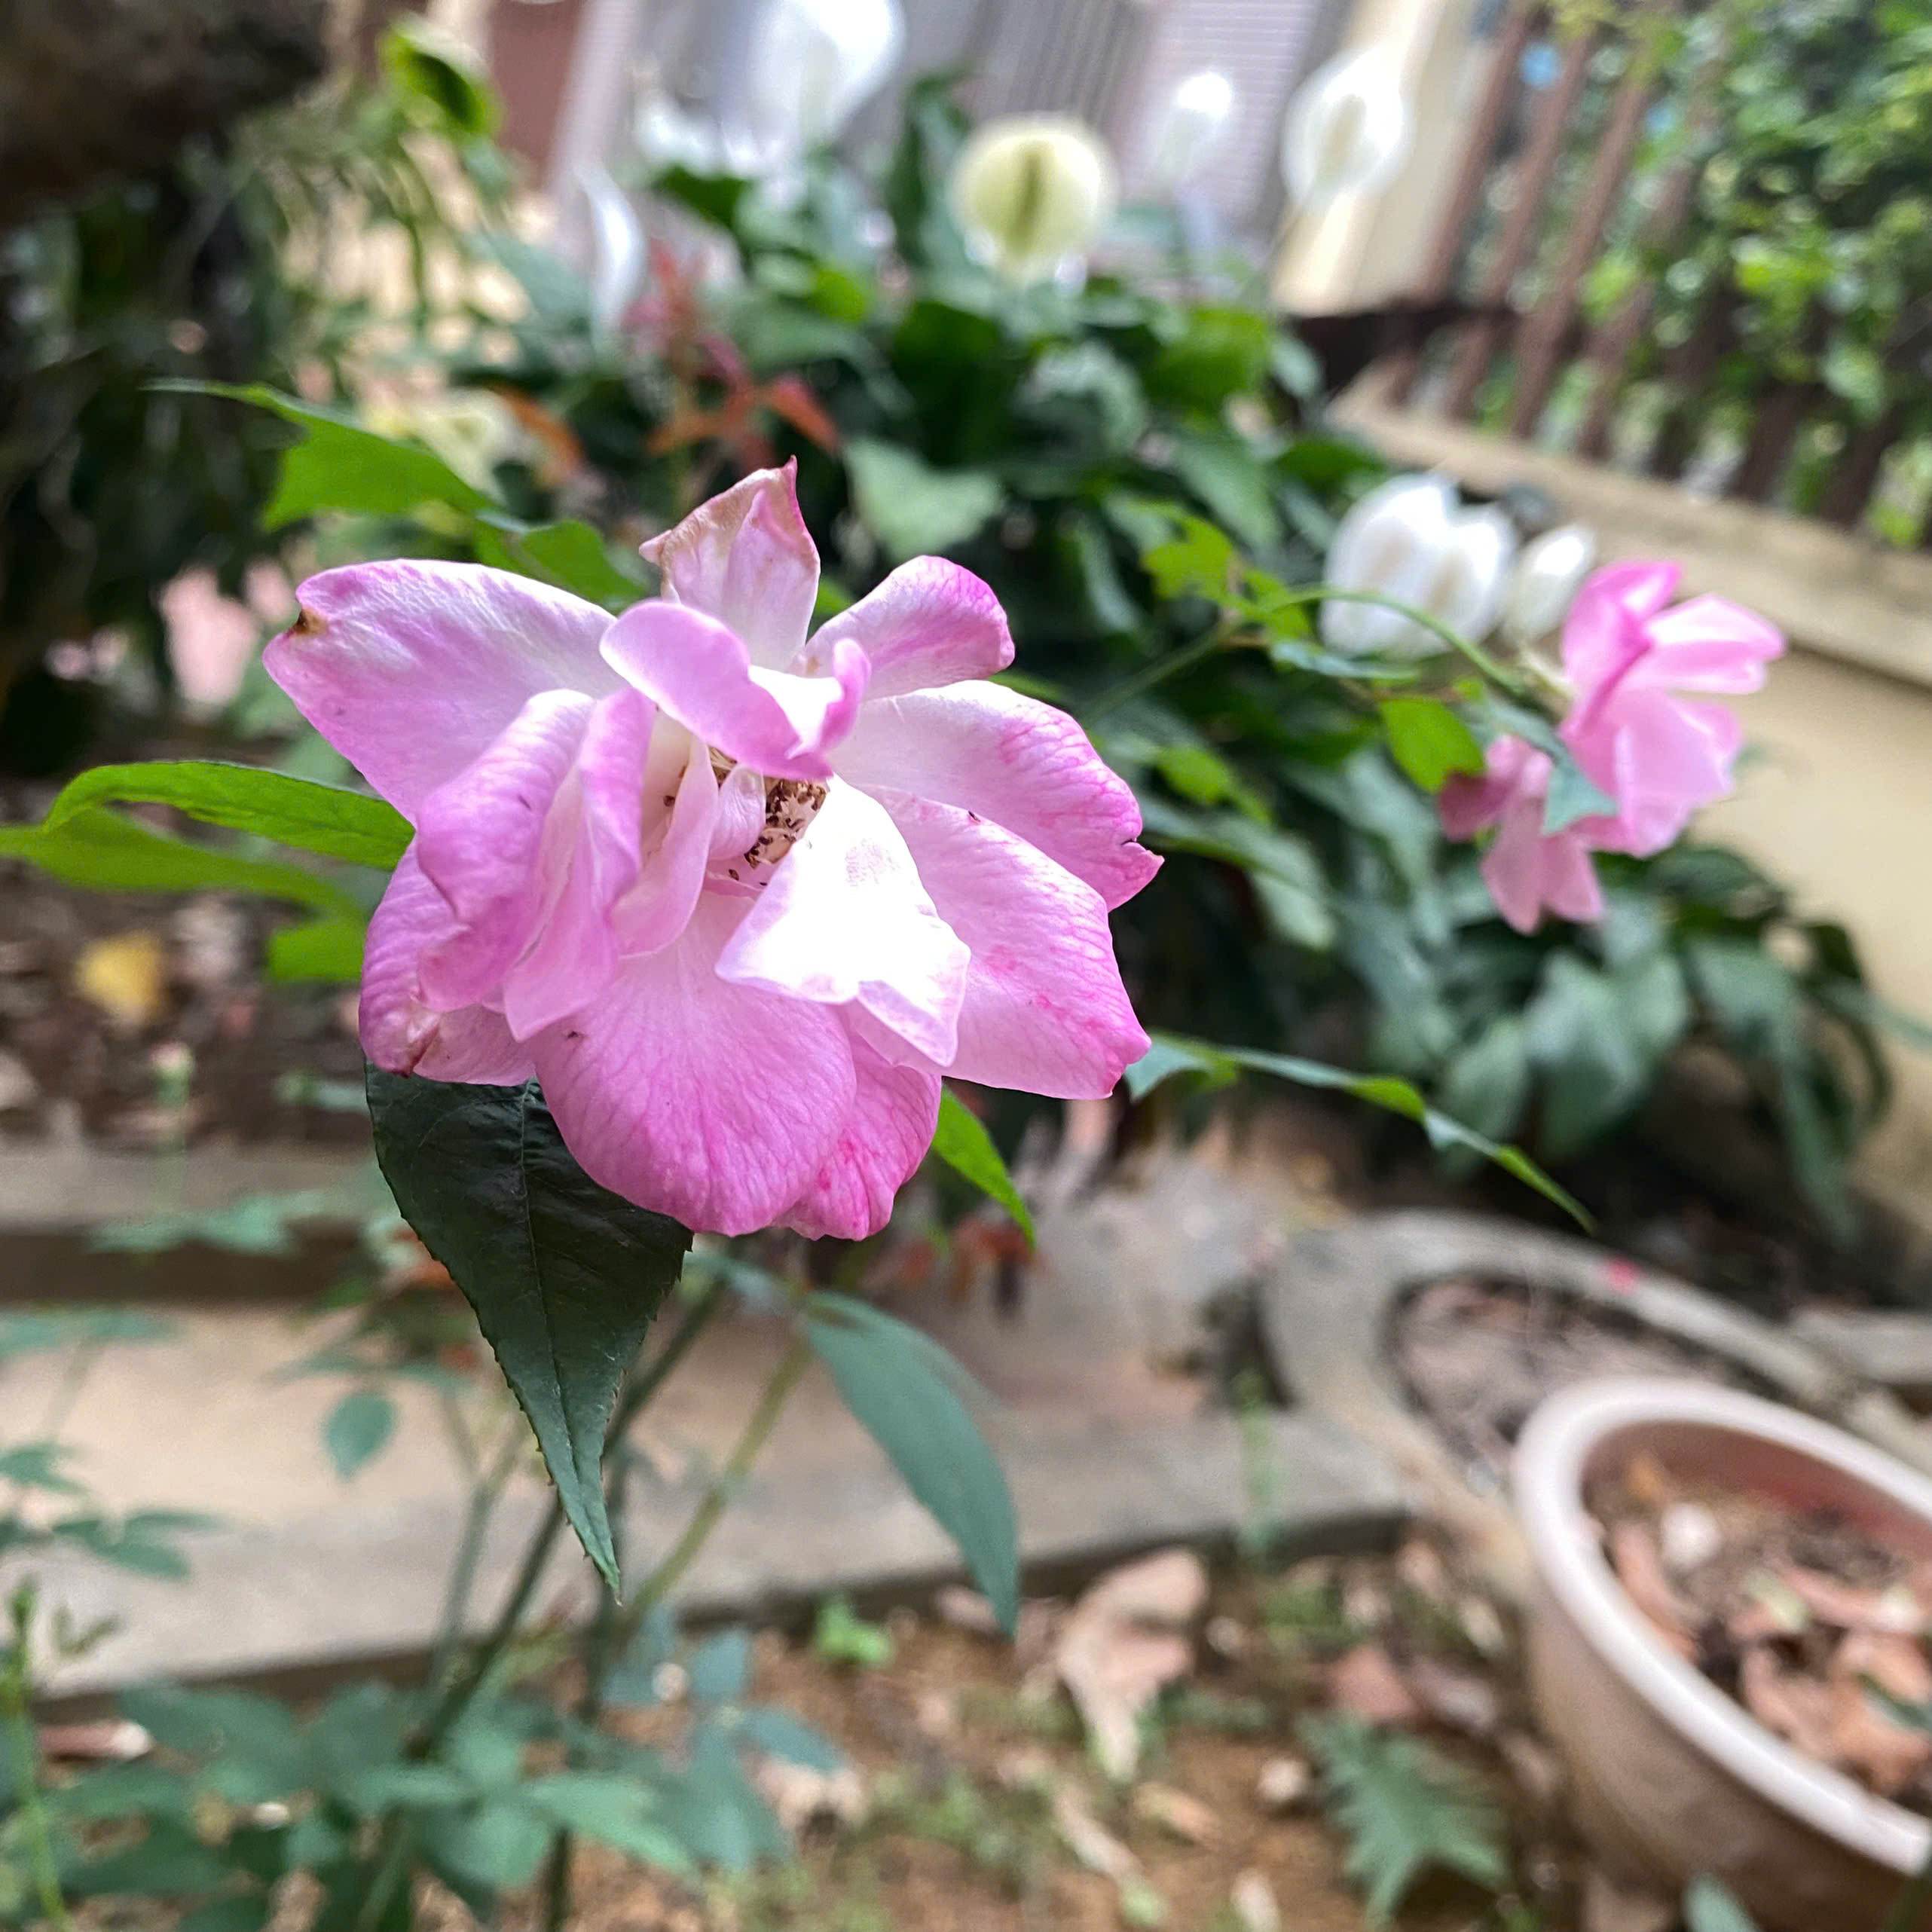hoa_hong_phan: (101, 472, 1221, 1658)
